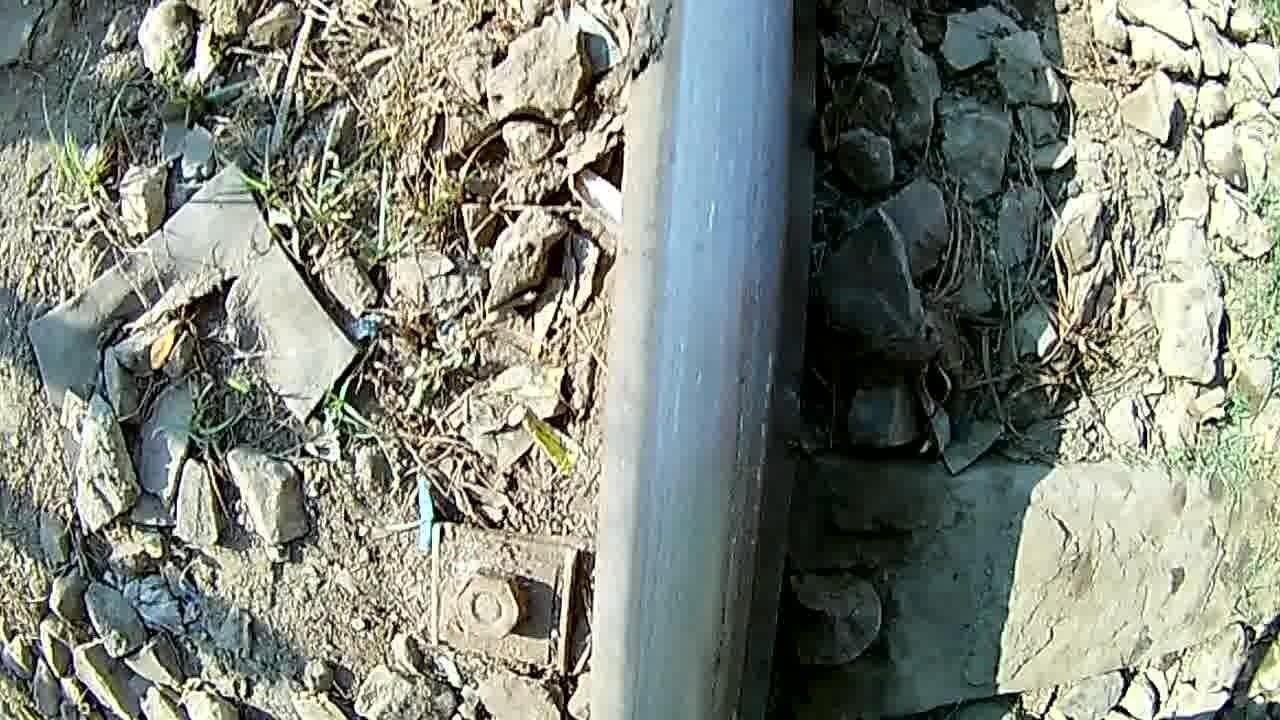crack: (610, 0, 790, 720)
